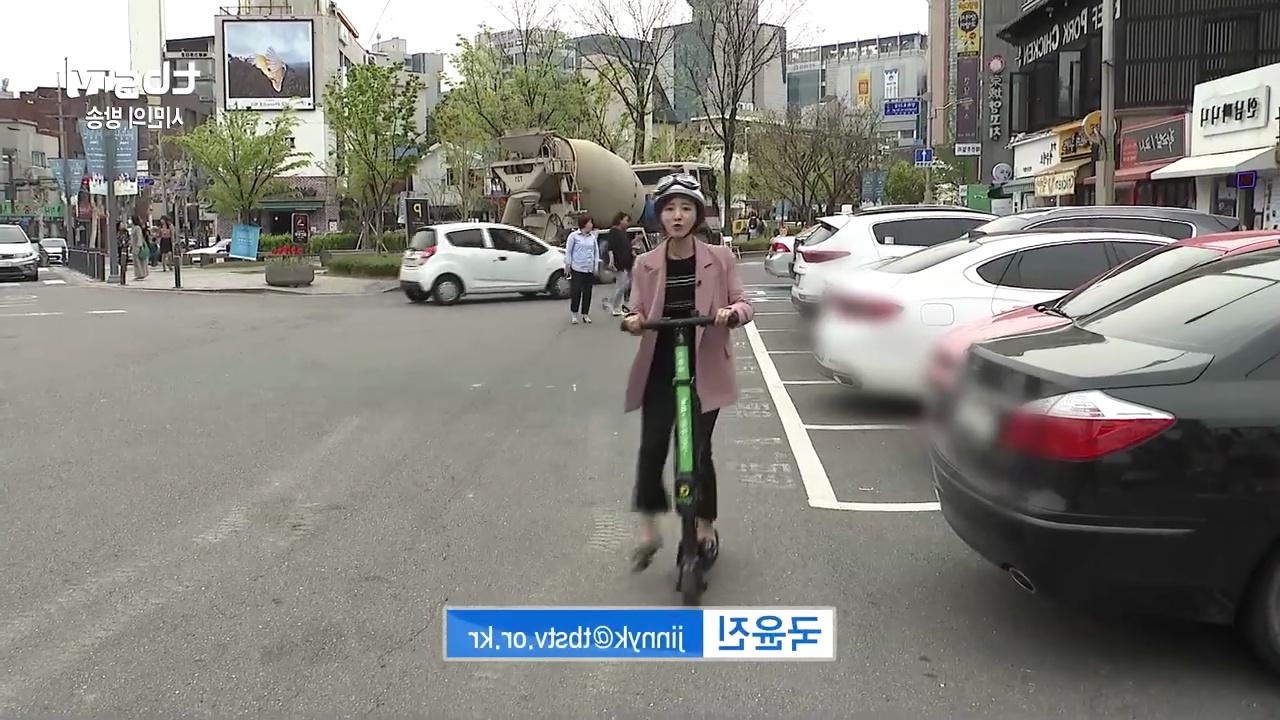helmet: (592, 173, 763, 605)
